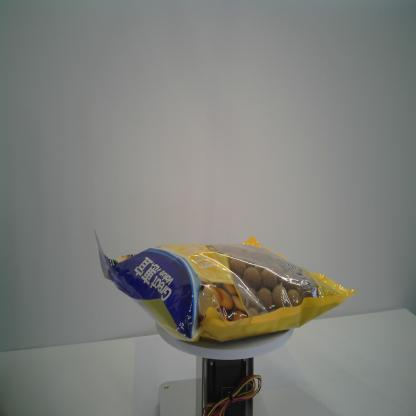Dried Food: (89, 225, 361, 343)
